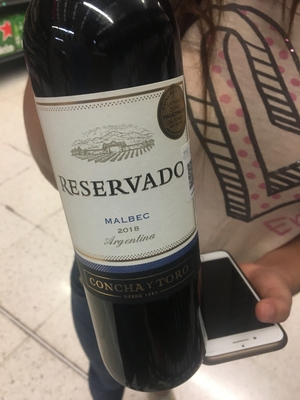reservado malbec: (29, 6, 216, 395)
